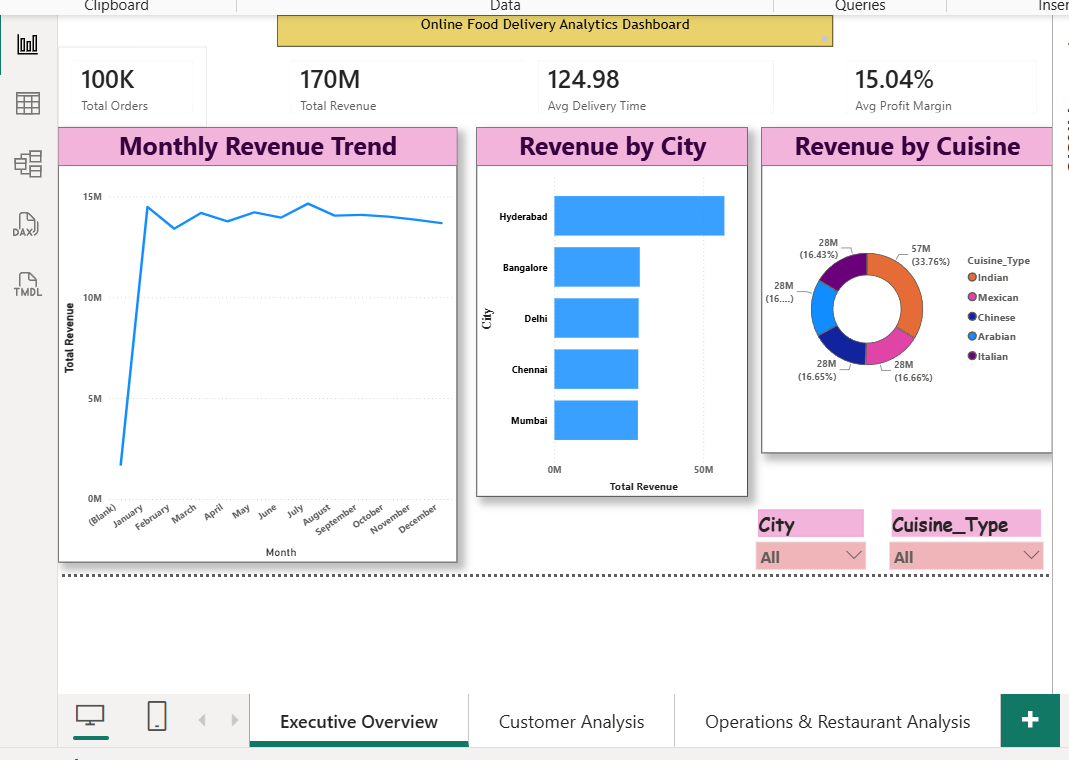

The page's visual inventory and layout, read from the dashboard file:
{"tool":"powerbi","page":{"name":"Executive Overview","canvas":[1280,720],"ordinal":0},"visuals":[{"type":"cardVisual","fields":{"Data":["final_food_delivery.Total Orders"]},"box":[0,40.5,191.1,103.6],"z":0},{"type":"cardVisual","fields":{"Data":["final_food_delivery.Total Revenue"]},"box":[281.7,40.5,338.4,103.6],"z":1000},{"type":"cardVisual","fields":{"Data":["final_food_delivery.Avg Delivery Time"]},"box":[600.7,40.5,338.4,103.6],"z":2000},{"type":"cardVisual","fields":{"Data":["final_food_delivery.Avg Profit Margin"]},"box":[997.4,40.5,281.7,103.6],"z":3000},{"type":"lineChart","title":"Monthly Revenue Trend","fields":{"Category":["final_food_delivery.Order_Date.Variation.Date Hierarchy.Month"],"Y":["final_food_delivery.Total Revenue"]},"box":[0,144.9,513.8,560.2],"z":4000},{"type":"donutChart","title":"Revenue by Cuisine","fields":{"Category":["final_food_delivery.Cuisine_Type"],"Y":["final_food_delivery.Total Revenue"]},"box":[905.9,144.9,374.7,419.2],"z":5000},{"type":"slicer","fields":{"Values":["final_food_delivery.City"]},"box":[889,631.5,161.9,85.8],"z":6000},{"type":"slicer","fields":{"Values":["final_food_delivery.Cuisine_Type"]},"box":[1060.6,631.5,218.6,87.4],"z":7000},{"type":"clusteredBarChart","title":"Revenue by City","fields":{"Category":["final_food_delivery.City"],"Y":["final_food_delivery.Total Revenue"]},"box":[538.9,144.9,349.6,475.2],"z":8000},{"type":"textbox","title":"Online Food Delivery Analytics Dashboard","box":[281.7,0,715.7,40.5],"z":9000}]}

Visuals, with their boxes on the page's 1280x720 design canvas (x1, y1, x2, y2). These are canvas units, not pixel positions in the 1069x760 screenshot, which may show the page scaled, cropped or inside an application window:
cardVisual - final_food_delivery.Total Orders: <box>0,40,191,144</box>
cardVisual - final_food_delivery.Total Revenue: <box>282,40,620,144</box>
cardVisual - final_food_delivery.Avg Delivery Time: <box>601,40,939,144</box>
cardVisual - final_food_delivery.Avg Profit Margin: <box>997,40,1279,144</box>
"Monthly Revenue Trend" lineChart: <box>0,145,514,705</box>
"Revenue by Cuisine" donutChart: <box>906,145,1281,564</box>
slicer - final_food_delivery.City: <box>889,632,1051,717</box>
slicer - final_food_delivery.Cuisine_Type: <box>1061,632,1279,719</box>
"Revenue by City" clusteredBarChart: <box>539,145,888,620</box>
"Online Food Delivery Analytics Dashboard" textbox: <box>282,0,997,40</box>
